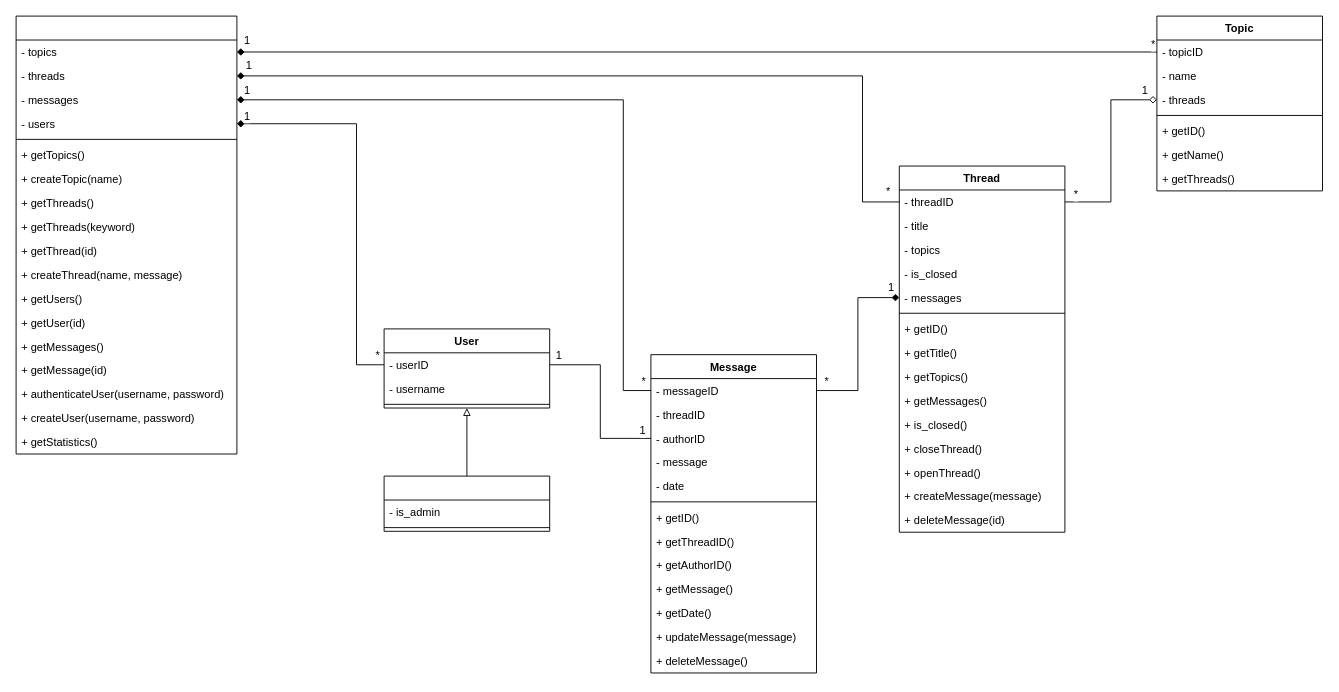
This 1339x692 diagram has some shape labels left out. Here are the shapes that lost their labels. From the top down, the box of each, then its label:
(15, 15, 237, 454): System
(383, 475, 550, 531): Administrator
